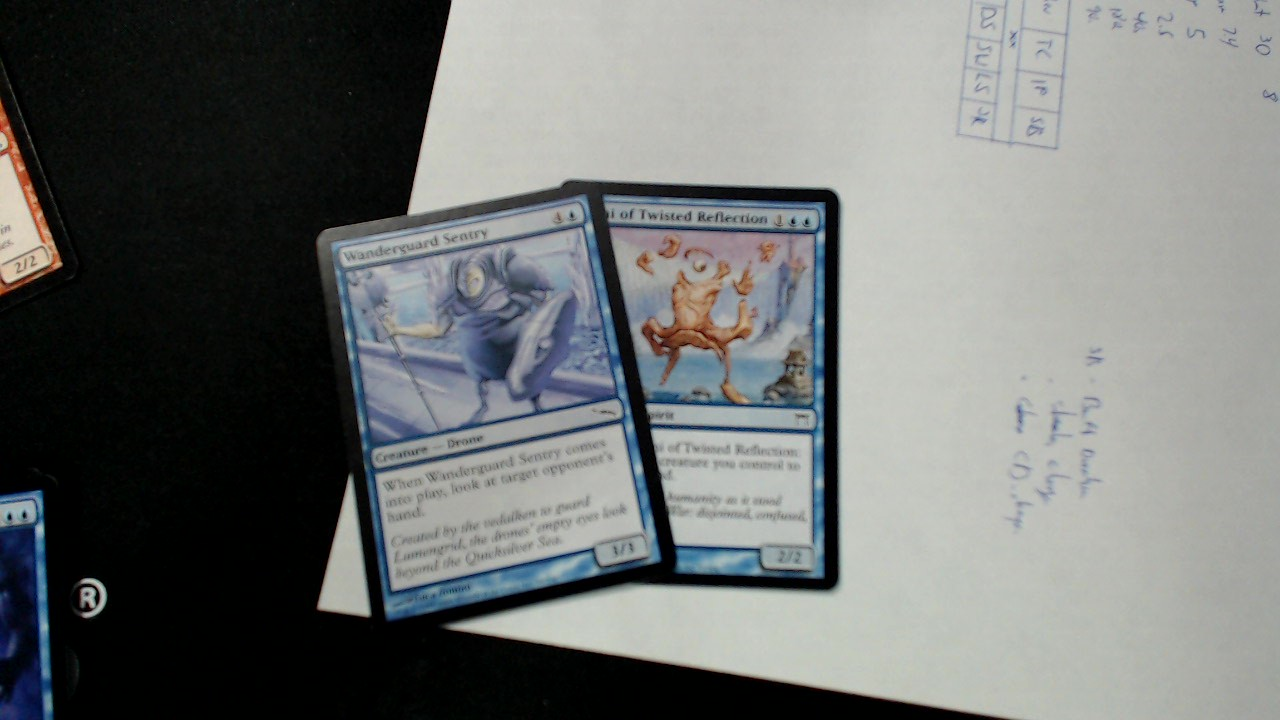MTG Card: (308, 180, 688, 639), (545, 174, 850, 593)
